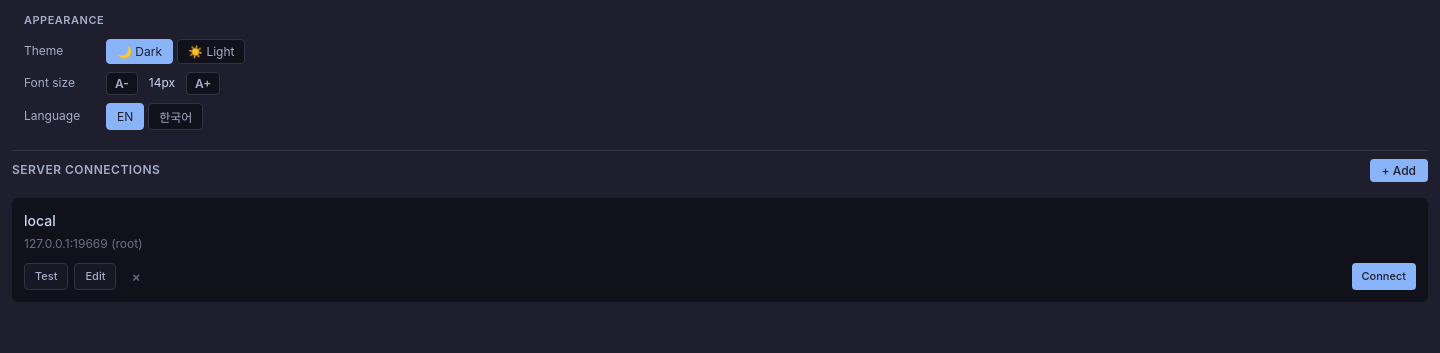
Test case: ServerSettings › tests saved connection success and failure states
expect the text "local" is shown: met, box [24, 212, 56, 228]
Click the button "Test": (46, 276) [24, 262, 68, 290]
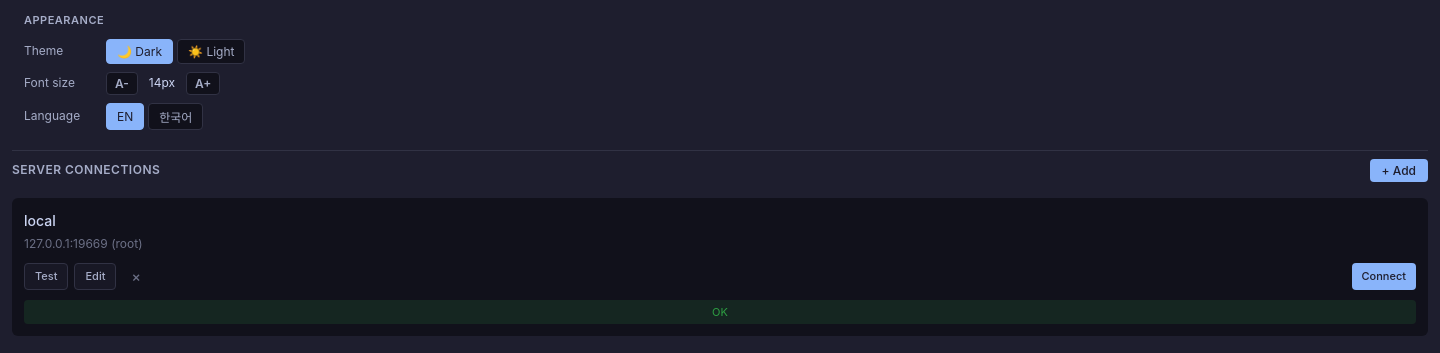
expect the text "OK" is shown: met, box [24, 300, 1416, 324]
Click the button "Test": (46, 276) [24, 262, 68, 290]
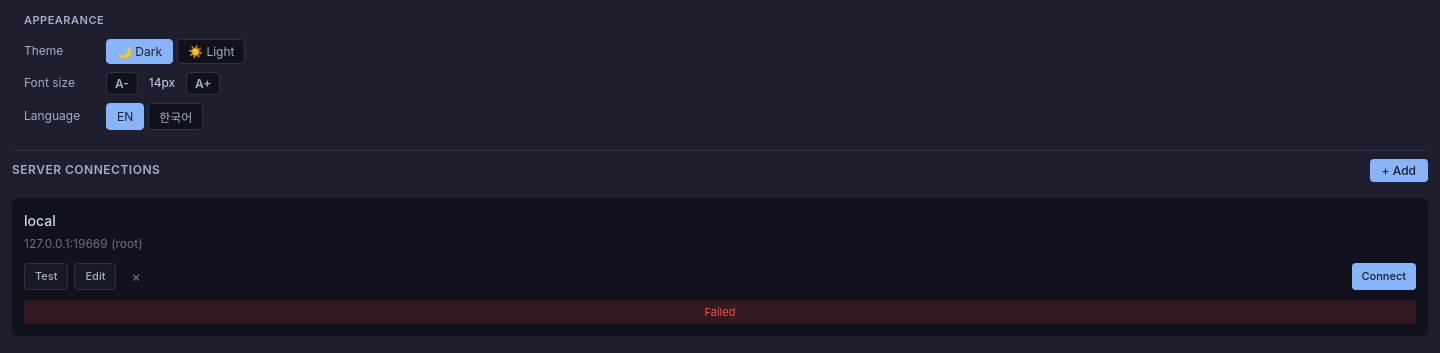
expect the text "Failed" is shown: met, box [24, 300, 1416, 324]
